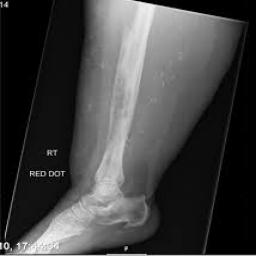cancer: (108, 17, 144, 171)
